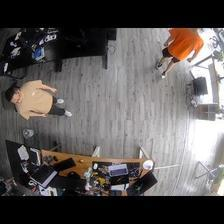normal: (6, 80, 72, 119), (157, 28, 202, 78)
